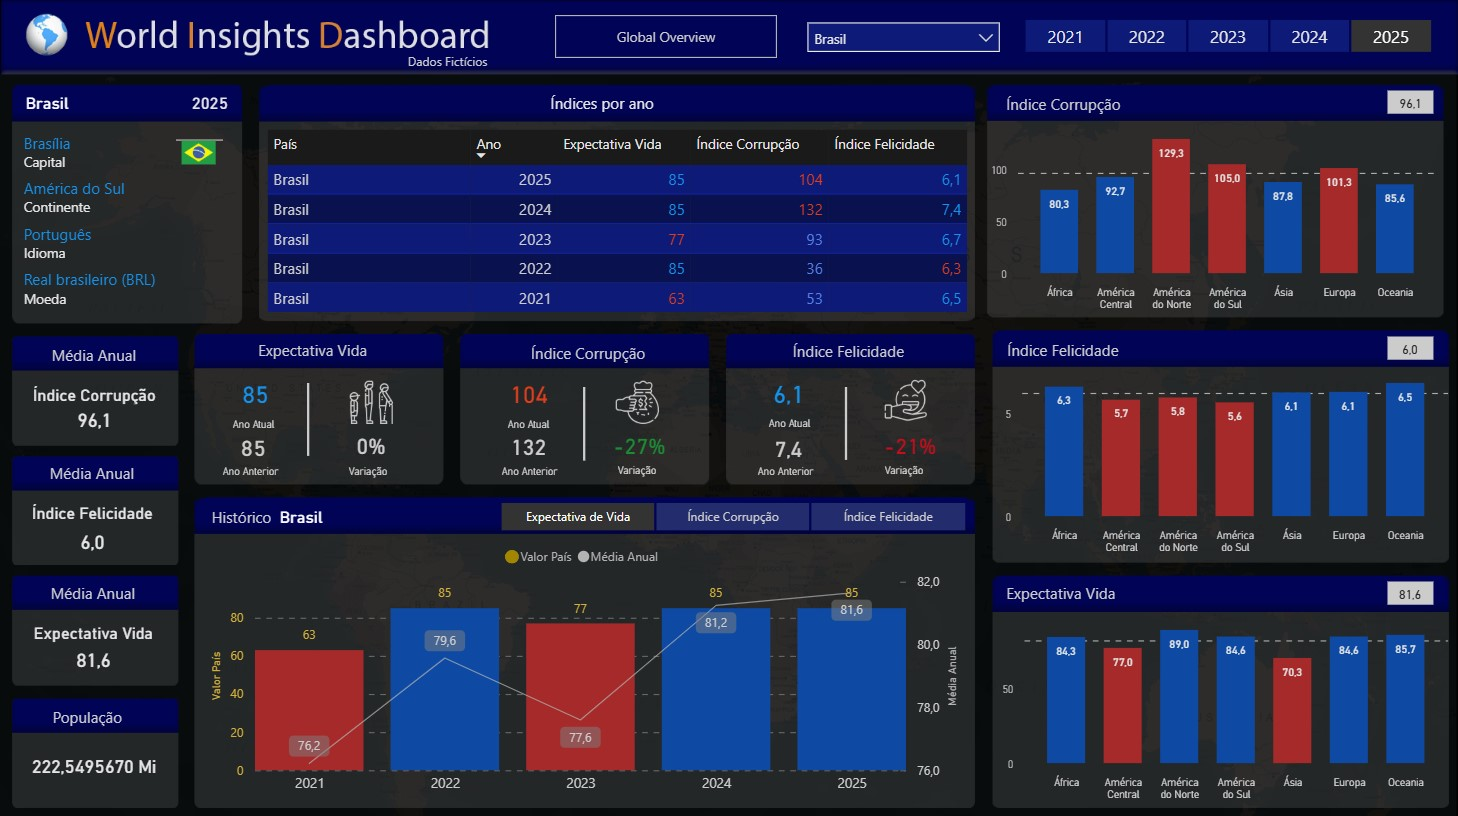

The page's visual inventory and layout, read from the dashboard file:
{"tool":"powerbi","page":{"name":"Country Analytics","canvas":[1280,720],"ordinal":0},"visuals":[{"type":"slicer","fields":{"Values":["PLANILHA_PAISES.País"]},"box":[698.9,10.5,188.8,50],"z":0},{"type":"multiRowCard","fields":{"Values":["PLANILHA_PAISES.Capital","PLANILHA_PAISES.Continente","PLANILHA_PAISES.Idioma","PLANILHA_PAISES.Moeda"]},"box":[15.8,112.4,193.2,166.8],"z":1000},{"type":"columnChart","fields":{"Category":["PLANILHA_PAISES.Continente"],"Y":["PLANILHA_PAISES.__Media_Indice_Expectativa_Vida_Anual"]},"box":[874.9,540.1,402.4,171.9],"z":2000},{"type":"columnChart","fields":{"Category":["PLANILHA_PAISES.Continente"],"Y":["PLANILHA_PAISES.__Media_Indice_Felicidade_Anual"]},"box":[874.9,323.2,402.4,171.9],"z":3000},{"type":"clusteredColumnChart","fields":{"Category":["PLANILHA_PAISES.Continente"],"Y":["PLANILHA_PAISES.__Media_Nivel_Corrupcao"]},"box":[865,108.9,402.4,172.8],"z":4000},{"type":"lineStackedColumnComboChart","fields":{"Category":["dCalendario.Ano"],"Y2":["Medidas.MediaValorSelecionadoMapa"],"Y":["Medidas.ValorSelecionadoGraficoHist"]},"box":[180.9,470.6,665.6,236.2],"z":5000},{"type":"slicer","fields":{"Values":["dCalendario.Date.Variation.Hierarquia de datas.Ano"]},"box":[874.3,11.4,405.7,42.1],"z":6000},{"type":"textbox","box":[17.4,83.8,186.1,47.9],"z":7000},{"type":"card","title":"Índice Corrupção","fields":{"Values":["PLANILHA_PAISES.__Media_Nivel_Corrupcao"]},"box":[15.8,339.8,134.3,44.8],"z":8000},{"type":"card","title":"Expectativa Vida","fields":{"Values":["PLANILHA_PAISES.__Media_Indice_Expectativa_Vida_Anual"]},"box":[14.9,548.8,134.3,47.4],"z":9000},{"type":"card","title":"Índice Felicidade","fields":{"Values":["PLANILHA_PAISES.__Media_Indice_Felicidade_Anual"]},"box":[14.9,443.4,132.6,51.8],"z":10000},{"type":"textbox","box":[40.2,298.7,96.7,32.6],"z":11000},{"type":"card","title":"Expectativa Vida","fields":{"Values":["Sum(PLANILHA_PAISES.Espectativa de Vida)"]},"box":[179.9,319.6,88.7,55.9],"z":12000},{"type":"card","title":"Nível Felicidade","fields":{"Values":["Sum(PLANILHA_PAISES.Índice de Felicidade)"]},"box":[648.3,318.7,89,56],"z":13000},{"type":"textbox","box":[39.2,507.3,94.8,27.2],"z":14000},{"type":"textbox","box":[38.3,402.1,94.8,26.8],"z":15000},{"type":"card","fields":{"Values":["Sum(PLANILHA_PAISES.População)"]},"box":[14.9,651.5,135.2,46.5],"z":16000},{"type":"textbox","box":[41.1,616,95,27.4],"z":17000},{"type":"card","fields":{"Values":["PLANILHA_PAISES.__Ano_Filtrado"]},"box":[149.8,77.4,68.6,23.5],"z":18000},{"type":"textbox","box":[180.9,440.8,206.3,32.5],"z":19000},{"type":"textbox","box":[240.6,446.9,88.7,22.8],"z":20000},{"type":"image","box":[771.8,328.4,47.4,48.3],"z":21000},{"type":"image","box":[302,330.1,48.3,48.3],"z":22000},{"type":"card","fields":{"Values":["PLANILHA_PAISES.__MesAnterior_IndiceFelicidade"]},"box":[644.7,375.7,95.8,39.9],"z":23000},{"type":"textbox","box":[660.4,398.6,74.6,32.5],"z":24000},{"type":"textbox","box":[631.4,295,227.4,37.8],"z":25000},{"type":"shape","box":[698.7,340.4,87.8,64.1],"z":26000},{"type":"textbox","box":[669.7,356.7,60.6,33.4],"z":27000},{"type":"card","title":"Nível de Corrupção","fields":{"Values":["PLANILHA_PAISES.__VariacaoPercentualIndiceFelicidade"]},"box":[744.5,368.6,108.9,47.4],"z":28000},{"type":"textbox","box":[771.6,397.7,59.4,29.7],"z":29000},{"type":"card","fields":{"Values":["PLANILHA_PAISES.__MesAnterior_ExpectativaVida"]},"box":[174.9,374.4,95.7,40.4],"z":30000},{"type":"textbox","box":[190.7,398.4,74.6,32.5],"z":31000},{"type":"textbox","box":[199.5,357.4,60.6,33.4],"z":32000},{"type":"shape","box":[226.7,337.4,88.1,64.1],"z":33000},{"type":"card","title":"Nível de Corrupção","fields":{"Values":["PLANILHA_PAISES.__VariacaoPercentualExpectativaVida"]},"box":[271.5,369.9,109.1,46.9],"z":34000},{"type":"textbox","box":[301.2,398.6,60.3,33.5],"z":35000},{"type":"textbox","box":[160.5,294.3,227.9,37.3],"z":36000},{"type":"textbox","box":[863.1,78.1,141.4,37.8],"z":37000},{"type":"textbox","box":[865.8,294.1,135.2,37.8],"z":38000},{"type":"textbox","box":[870.1,507.5,122.9,37.8],"z":39000},{"type":"tableEx","fields":{"Values":["PLANILHA_PAISES.País","dCalendario.Ano","Sum(PLANILHA_PAISES.Espectativa de Vida)","Sum(PLANILHA_PAISES.Nível de Corrupção)","Sum(PLANILHA_PAISES.Índice de Felicidade)"]},"box":[229.2,109.8,625.2,173.9],"z":40000},{"type":"textbox","box":[415,77.1,227,37.2],"z":41000},{"type":"tableEx","fields":{"Values":["PLANILHA_PAISES.CountryFlag"]},"box":[148.4,105.4,67.6,60.6],"z":42000},{"type":"cardVisual","fields":{"Data":["Medidas.__Media_Anual_Corrupcao"]},"box":[1213.5,75.5,50,30.7],"z":43000},{"type":"cardVisual","fields":{"Data":["Medidas.__Media_Anual_Indice_Felicidade"]},"box":[1213.5,291.5,50,30.7],"z":44000},{"type":"cardVisual","fields":{"Data":["Medidas.__Media_Anual_Indice_Expectativa_Vida"]},"box":[1213.5,506.6,50,30.7],"z":45000},{"type":"shape","box":[487.3,14,194.9,37.8],"z":46000},{"type":"textbox","box":[353,39.5,90.4,31.6],"z":47000},{"type":"slicer","fields":{"Values":["Indicador.Indicador"]},"box":[414.4,435.5,456.6,37.8],"z":48000},{"type":"textbox","box":[402.9,296.8,226.9,37.3],"z":49000},{"type":"card","title":"Nível de Corrupção","fields":{"Values":["Sum(PLANILHA_PAISES.Nível de Corrupção)"]},"box":[419.8,319.2,89.6,56],"z":50000},{"type":"card","fields":{"Values":["PLANILHA_PAISES.__MesAnterior_Corrupcao"]},"box":[416.6,374.1,96,40.2],"z":51000},{"type":"textbox","box":[441.1,357.3,60.3,33.7],"z":52000},{"type":"textbox","box":[435.2,398.6,74.4,32.3],"z":53000},{"type":"textbox","box":[537,398.1,60.7,33.3],"z":54000},{"type":"shape","box":[468.5,340.8,88.1,64.6],"z":55000},{"type":"image","box":[535.6,330.1,48.3,48.3],"z":56000},{"type":"card","fields":{"Values":["PLANILHA_PAISES.__VariacaoPercentualCorrupcao"]},"box":[512,369.7,98.6,46.9],"z":57000},{"type":"shape","box":[443.7,483.5,12.2,11.8],"z":57501}]}

Visuals, with their boxes in screenshot pixels (x1, y1, x2, y2), scaled from the page's 1280x720 canvas onto the 1458x816 screenshot:
slicer - PLANILHA_PAISES.País: x1=796, y1=12, x2=1011, y2=69
multiRowCard - PLANILHA_PAISES.Capital x PLANILHA_PAISES.Continente: x1=18, y1=127, x2=238, y2=316
columnChart - PLANILHA_PAISES.Continente x PLANILHA_PAISES.__Media_Indice_Expectativa_Vida_Anual: x1=997, y1=612, x2=1455, y2=807
columnChart - PLANILHA_PAISES.Continente x PLANILHA_PAISES.__Media_Indice_Felicidade_Anual: x1=997, y1=366, x2=1455, y2=561
clusteredColumnChart - PLANILHA_PAISES.Continente x PLANILHA_PAISES.__Media_Nivel_Corrupcao: x1=985, y1=123, x2=1444, y2=319
lineStackedColumnComboChart - dCalendario.Ano x Medidas.MediaValorSelecionadoMapa: x1=206, y1=533, x2=964, y2=801
slicer - dCalendario.Date.Variation.Hierarquia de datas.Ano: x1=996, y1=13, x2=1457, y2=61
textbox: x1=20, y1=95, x2=232, y2=149
"Índice Corrupção" card: x1=18, y1=385, x2=171, y2=436
"Expectativa Vida" card: x1=17, y1=622, x2=170, y2=676
"Índice Felicidade" card: x1=17, y1=503, x2=168, y2=561
textbox: x1=46, y1=339, x2=156, y2=375
"Expectativa Vida" card: x1=205, y1=362, x2=306, y2=426
"Nível Felicidade" card: x1=738, y1=361, x2=840, y2=425
textbox: x1=45, y1=575, x2=153, y2=606
textbox: x1=44, y1=456, x2=152, y2=486
card - Sum(PLANILHA_PAISES.População): x1=17, y1=738, x2=171, y2=791
textbox: x1=47, y1=698, x2=155, y2=729
card - PLANILHA_PAISES.__Ano_Filtrado: x1=171, y1=88, x2=249, y2=114
textbox: x1=206, y1=500, x2=441, y2=536
textbox: x1=274, y1=506, x2=375, y2=532
image: x1=879, y1=372, x2=933, y2=427
image: x1=344, y1=374, x2=399, y2=429
card - PLANILHA_PAISES.__MesAnterior_IndiceFelicidade: x1=734, y1=426, x2=843, y2=471
textbox: x1=752, y1=452, x2=837, y2=489
textbox: x1=719, y1=334, x2=978, y2=377
shape: x1=796, y1=386, x2=896, y2=458
textbox: x1=763, y1=404, x2=832, y2=442
"Nível de Corrupção" card: x1=848, y1=418, x2=972, y2=471
textbox: x1=879, y1=451, x2=947, y2=484
card - PLANILHA_PAISES.__MesAnterior_ExpectativaVida: x1=199, y1=424, x2=308, y2=470
textbox: x1=217, y1=452, x2=302, y2=488
textbox: x1=227, y1=405, x2=296, y2=443
shape: x1=258, y1=382, x2=359, y2=455
"Nível de Corrupção" card: x1=309, y1=419, x2=434, y2=472
textbox: x1=343, y1=452, x2=412, y2=490
textbox: x1=183, y1=334, x2=442, y2=376
textbox: x1=983, y1=89, x2=1144, y2=131
textbox: x1=986, y1=333, x2=1140, y2=376
textbox: x1=991, y1=575, x2=1131, y2=618
tableEx - PLANILHA_PAISES.País x dCalendario.Ano: x1=261, y1=124, x2=973, y2=322
textbox: x1=473, y1=87, x2=731, y2=130
tableEx - PLANILHA_PAISES.CountryFlag: x1=169, y1=119, x2=246, y2=188
cardVisual - Medidas.__Media_Anual_Corrupcao: x1=1382, y1=86, x2=1439, y2=120
cardVisual - Medidas.__Media_Anual_Indice_Felicidade: x1=1382, y1=330, x2=1439, y2=365
cardVisual - Medidas.__Media_Anual_Indice_Expectativa_Vida: x1=1382, y1=574, x2=1439, y2=609
shape: x1=555, y1=16, x2=777, y2=59
textbox: x1=402, y1=45, x2=505, y2=81
slicer - Indicador.Indicador: x1=472, y1=494, x2=992, y2=536
textbox: x1=459, y1=336, x2=717, y2=379
"Nível de Corrupção" card: x1=478, y1=362, x2=580, y2=425
card - PLANILHA_PAISES.__MesAnterior_Corrupcao: x1=475, y1=424, x2=584, y2=470
textbox: x1=502, y1=405, x2=571, y2=443
textbox: x1=496, y1=452, x2=580, y2=488
textbox: x1=612, y1=451, x2=681, y2=489
shape: x1=534, y1=386, x2=634, y2=459
image: x1=610, y1=374, x2=665, y2=429
card - PLANILHA_PAISES.__VariacaoPercentualCorrupcao: x1=583, y1=419, x2=696, y2=472
shape: x1=505, y1=548, x2=519, y2=561
